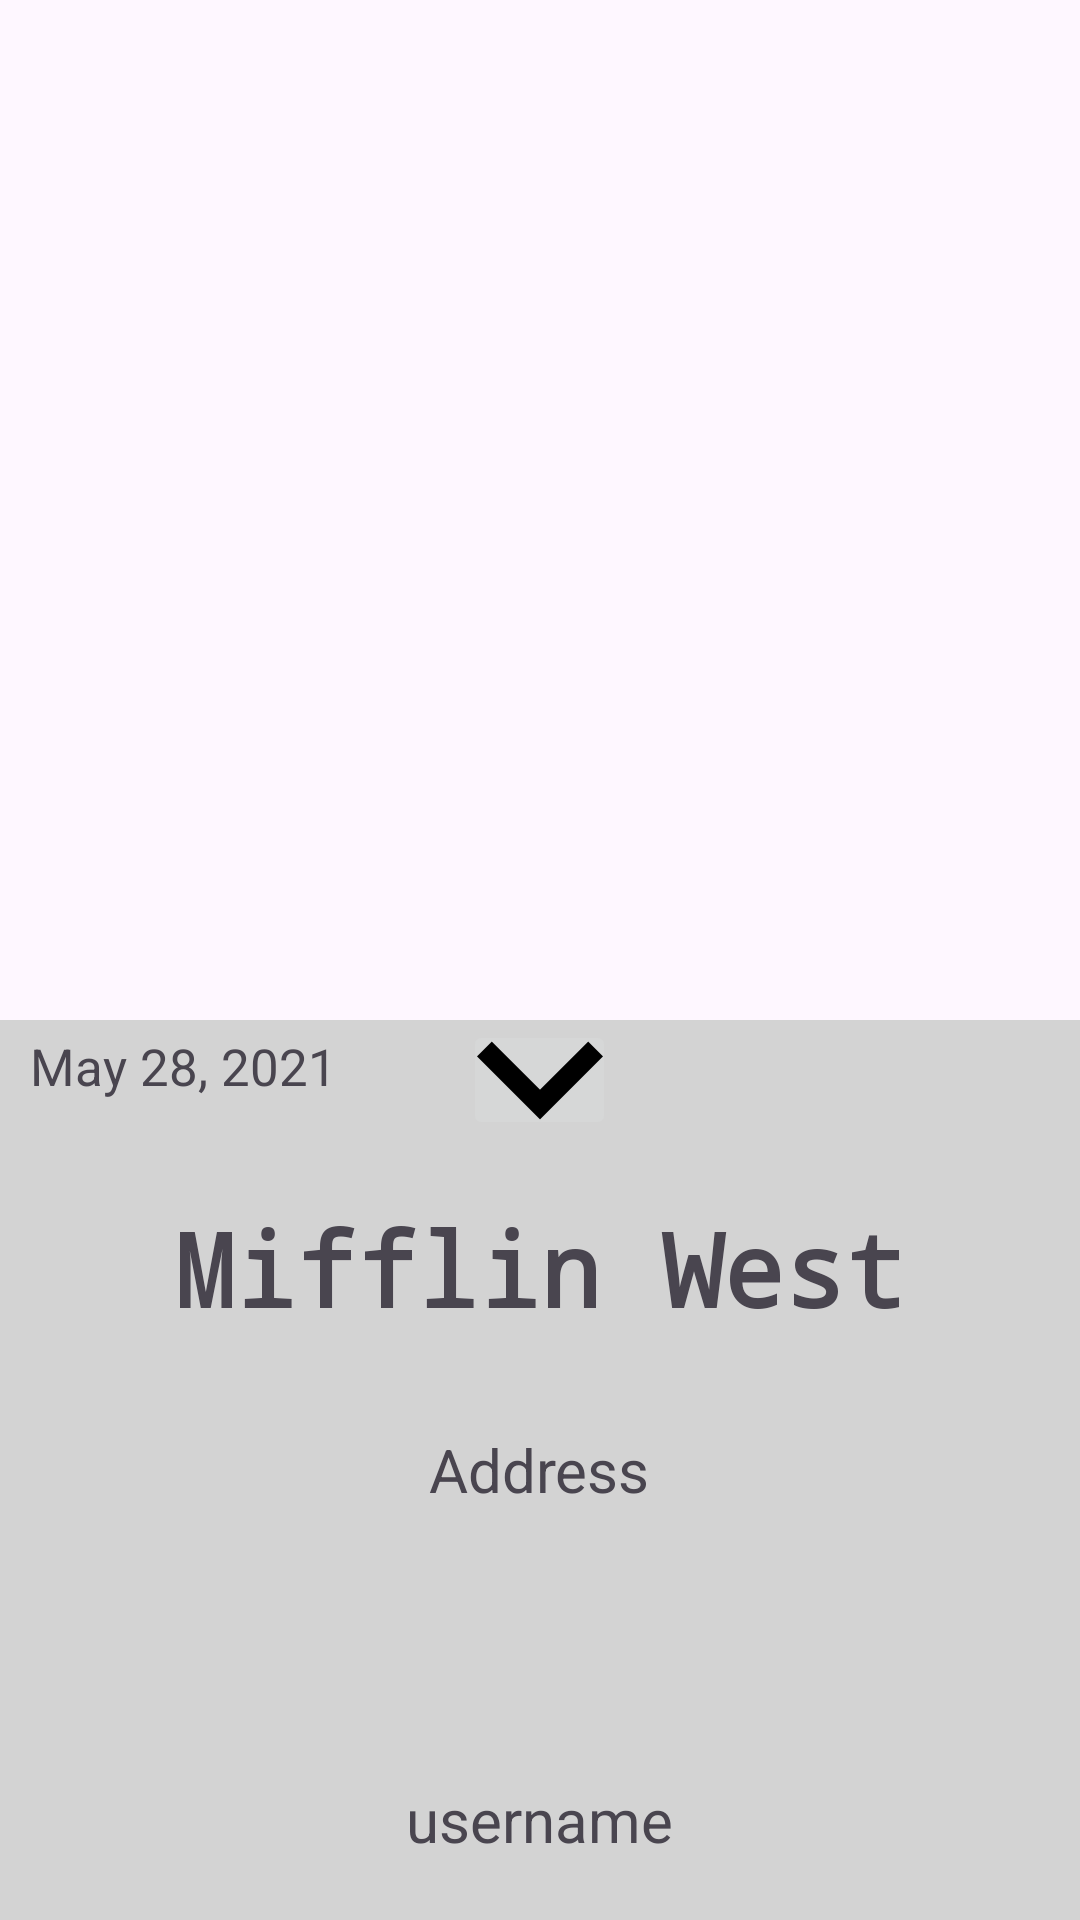

Named icons in this screenshot (1080w x 1920h) and their bounding boxes, [x1, y1, x2, y2]:
down: [477, 1041, 603, 1119]
